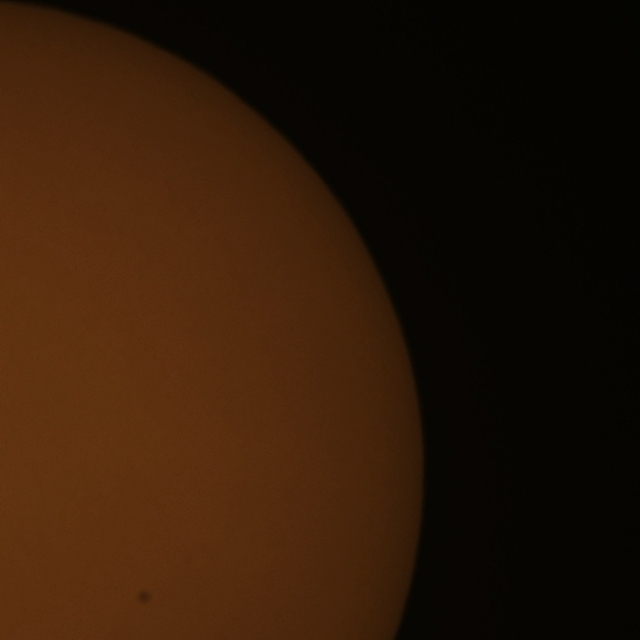sunspot: (136, 588, 152, 608)
